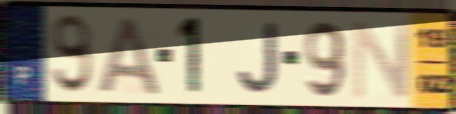1: (173, 14, 203, 100)
9: (48, 11, 95, 98), (302, 18, 348, 100)
A: (96, 14, 165, 97)
J: (235, 19, 281, 96)
N: (350, 18, 415, 101)
